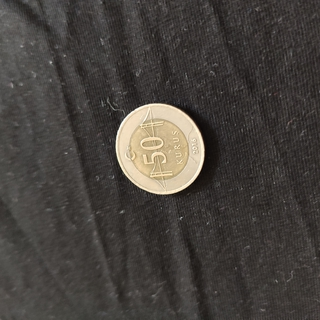50KURUS: (114, 101, 207, 195)
